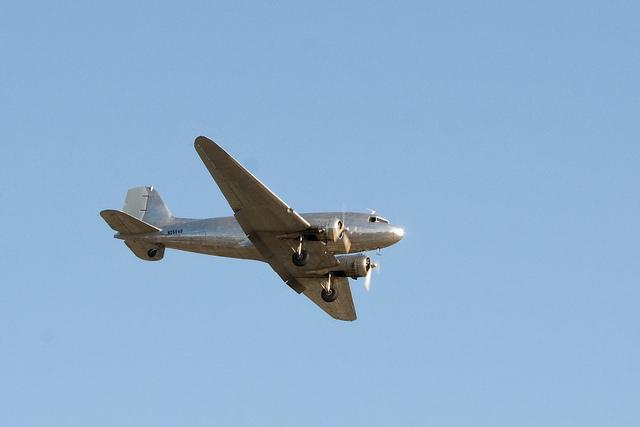airplane: (93, 132, 409, 335)
